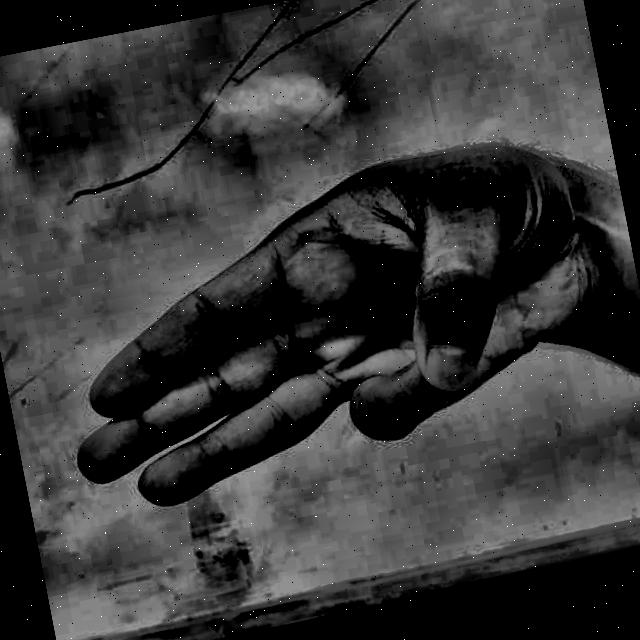Ma: (15, 109, 640, 554)
